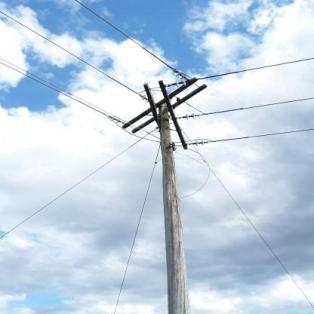Poste: (155, 98, 194, 314)
